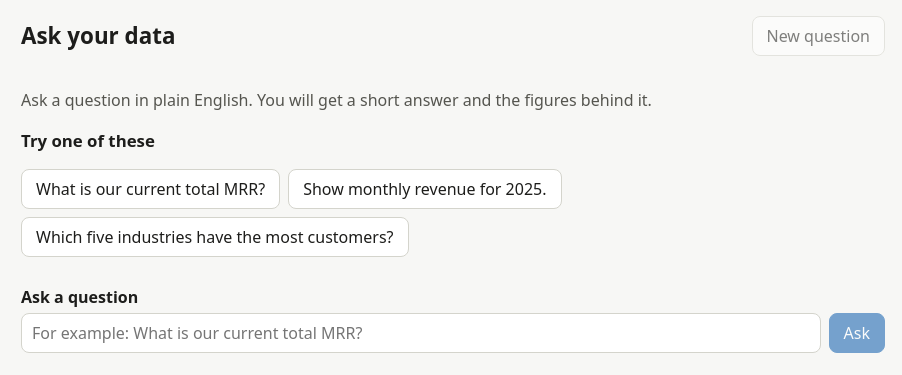
Test: asking › cancel stops the request and removes the question
Type "Slow one" into the field labelled "Ask a question". click: (421, 333)
box: [21,313,821,353]
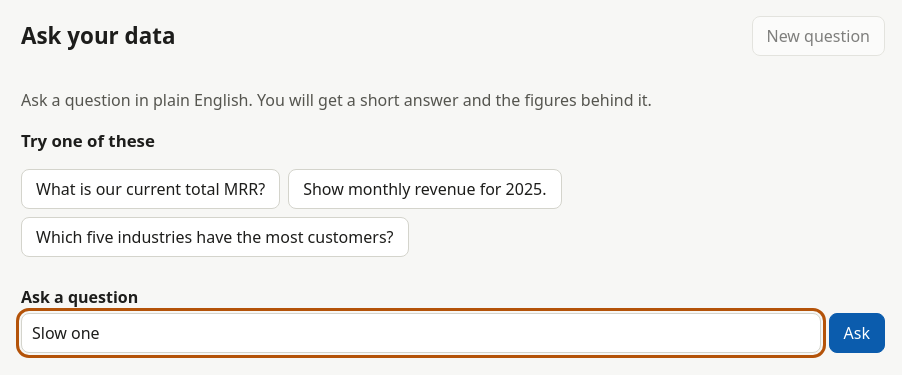
Click the button "Ask". click: click(857, 333)
box: [829,313,885,353]
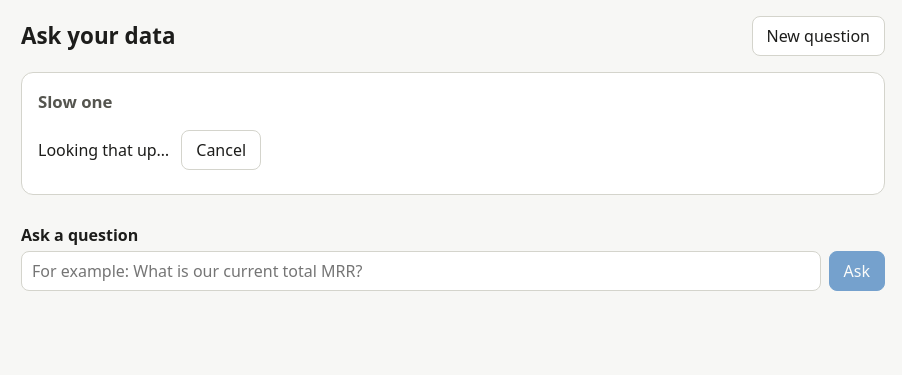
Click the button "Cancel". click: click(221, 150)
box: [181,130,261,170]
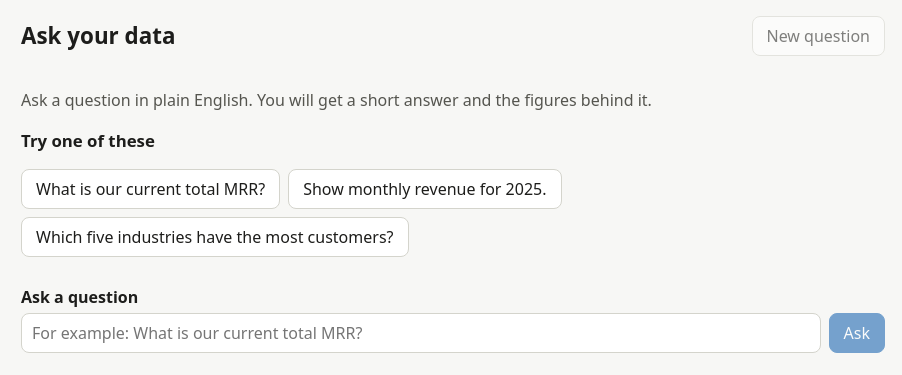
Result: the text "Looking that up…" is gone
Result: the heading "Slow one" is gone
